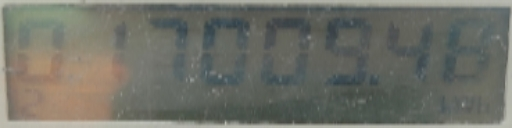0: (193, 10, 262, 99), (3, 12, 71, 87), (259, 3, 309, 96)
1: (103, 10, 137, 103)
4: (387, 7, 438, 91)
7: (146, 17, 196, 99)
8: (437, 8, 499, 92)
9: (318, 9, 369, 89)
d: (368, 72, 383, 85)
